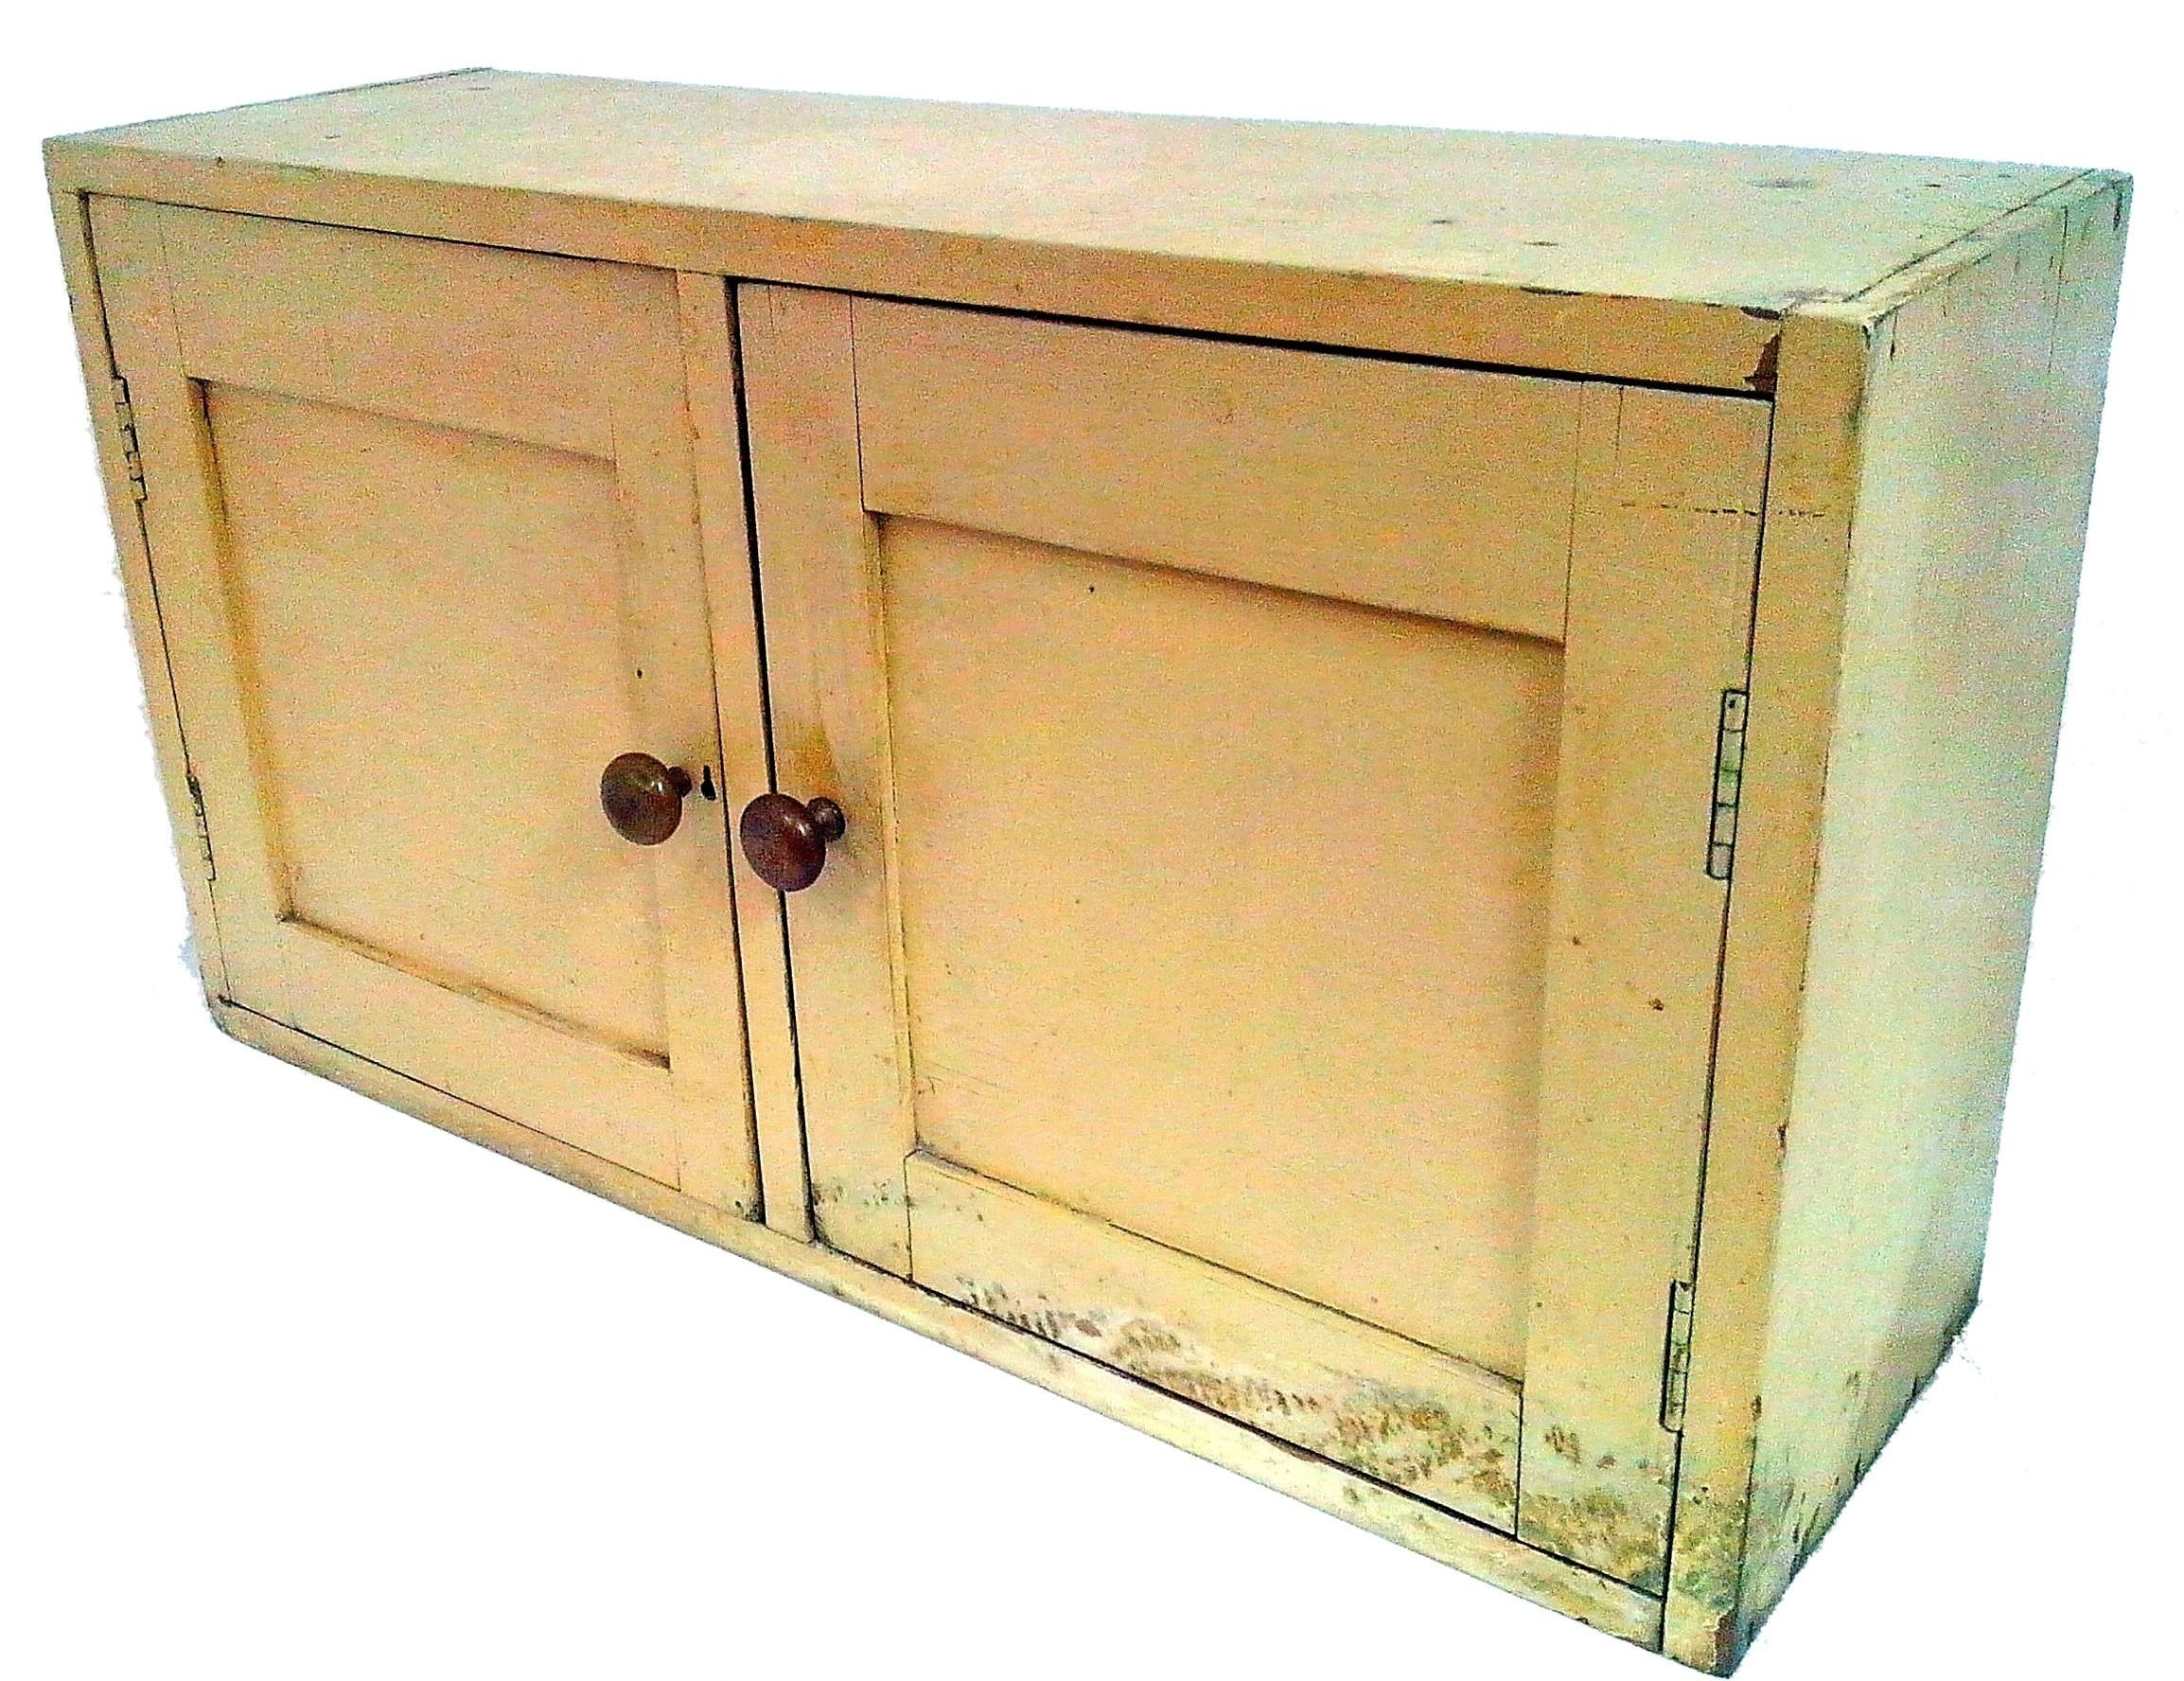cabinet_door: (768, 339, 1690, 1351), (182, 279, 726, 1100)
handle: (731, 777, 844, 908), (597, 752, 692, 869)
